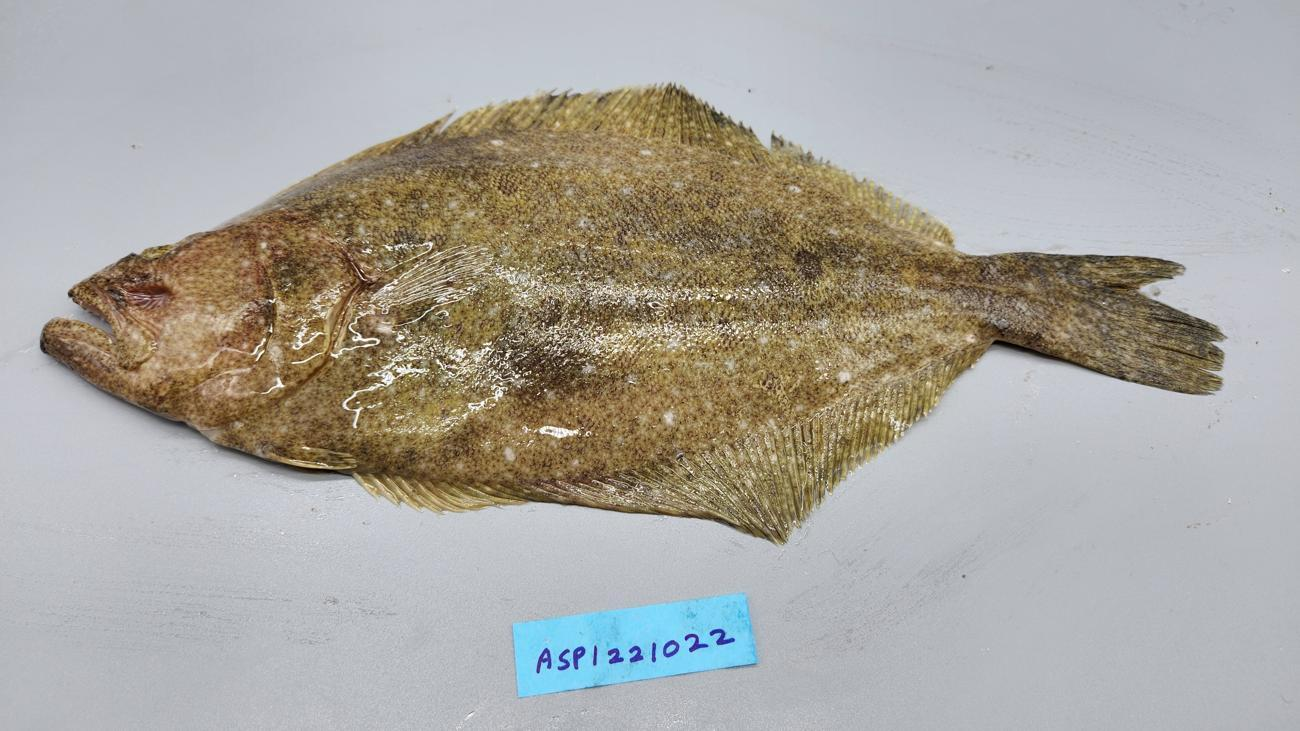SPDYH: (913, 252, 1056, 349)
SPOUY: (24, 73, 1235, 552)
